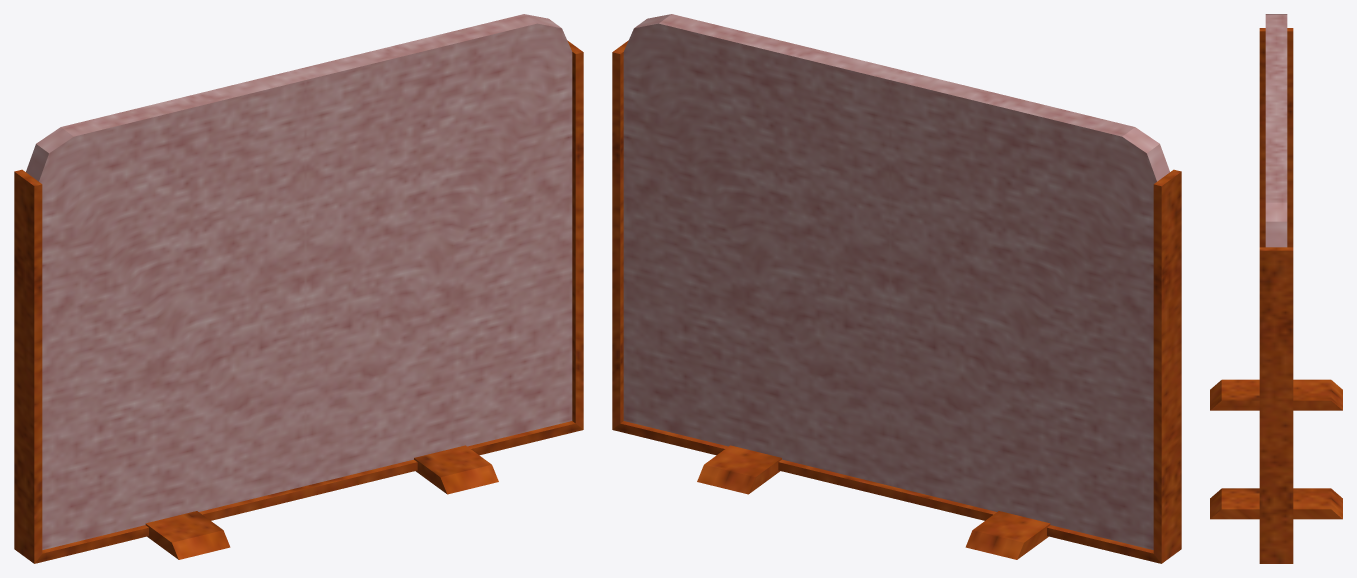
File: divider_veneer_red_low_half.fbx
3 renders of one model, left to right at view 1: azimuth 30°, elevation 25°; view 2: azimuth 150°, elevation 25°; view 3: azimuth 270°, elevation 25°, orthographic. The views are drawn at different scales.
Parts seen in each view (by area): view 1: divider_veneer_red_low_half; view 2: divider_veneer_red_low_half; view 3: divider_veneer_red_low_half.
Part boxes in pixels (x1=…): divider_veneer_red_low_half: x1=14, y1=14, x2=583, y2=563; divider_veneer_red_low_half: x1=612, y1=14, x2=1181, y2=563; divider_veneer_red_low_half: x1=1210, y1=14, x2=1342, y2=563.
Bounding box in the file's own units: 207 × 150 × 52.3.
Materials: 1 (1 with a texture image).
